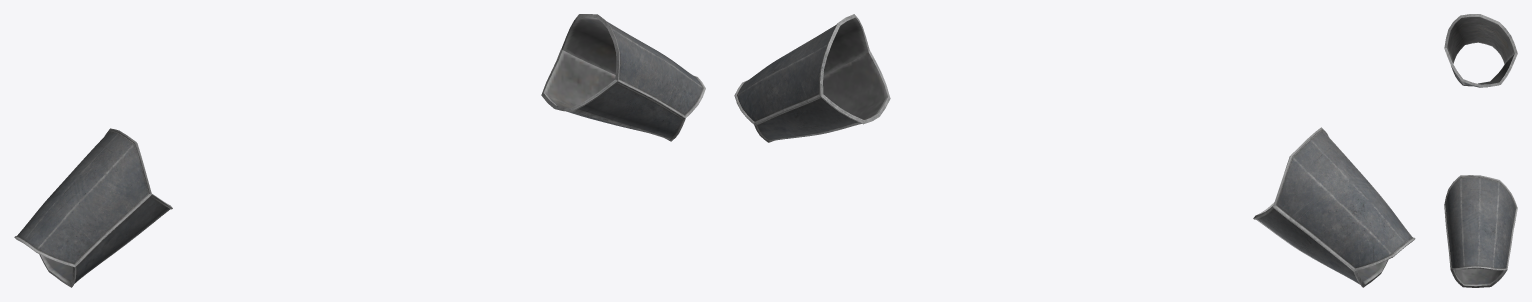
Rendered from sk_dwarf_erebor_bracers_med_b.fbx.
3 renders of one model, left to right at view 1: azimuth 30°, elevation 25°; view 2: azimuth 150°, elevation 25°; view 3: azimuth 270°, elevation 25°, orthographic. The views are drawn at different scales.
Parts seen in each view (by area): view 1: sk_dwarf_erebor_bracers_med_b; view 2: sk_dwarf_erebor_bracers_med_b; view 3: sk_dwarf_erebor_bracers_med_b.
Part boxes in pixels (x1,y1,x2,y2): sk_dwarf_erebor_bracers_med_b: (14, 14, 705, 287); sk_dwarf_erebor_bracers_med_b: (734, 14, 1415, 287); sk_dwarf_erebor_bracers_med_b: (1444, 14, 1517, 287).
Bounding box in the file's own units: 1.2 × 0.1649 × 0.2297.
1 material, 1 textured.
